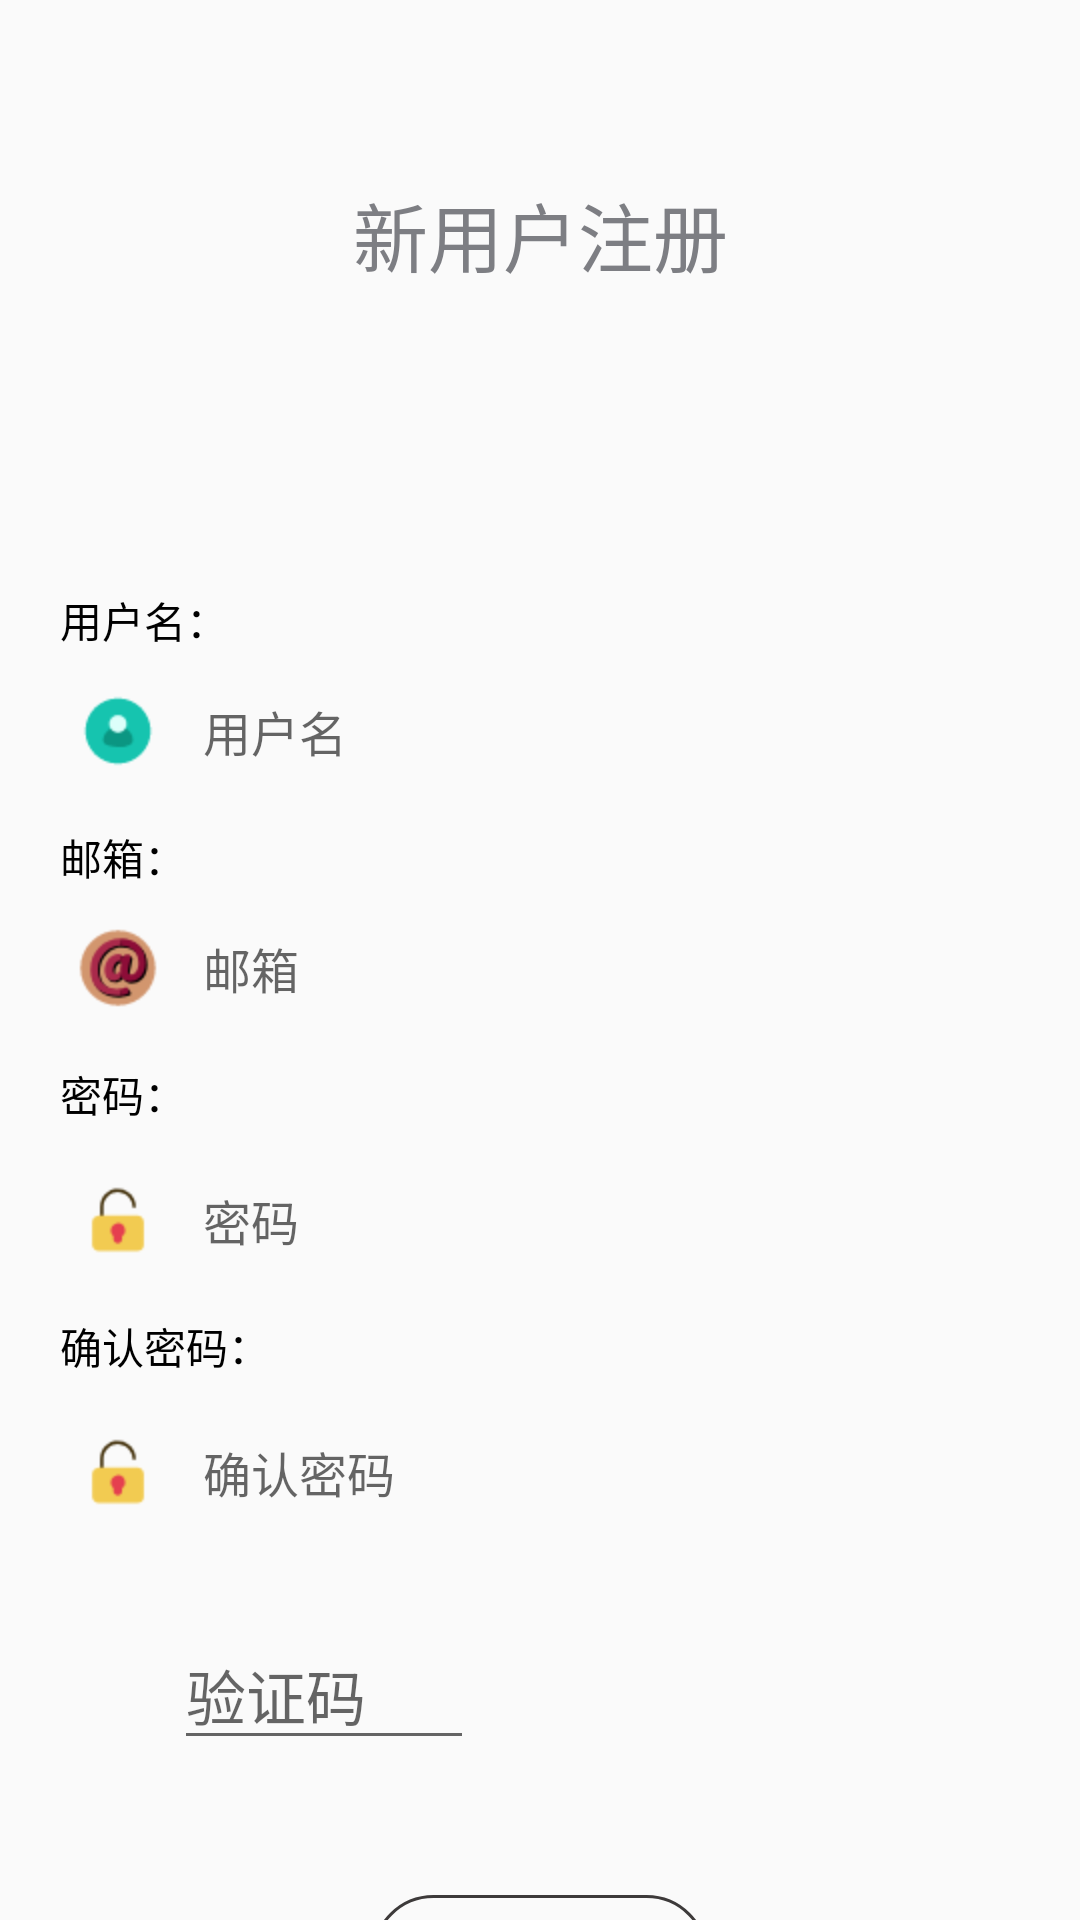

Named icons in this screenshot (1080x1920) and their centers, [x,y]:
login pass: [118,1219], [118,1471]
login user: [118,731]
